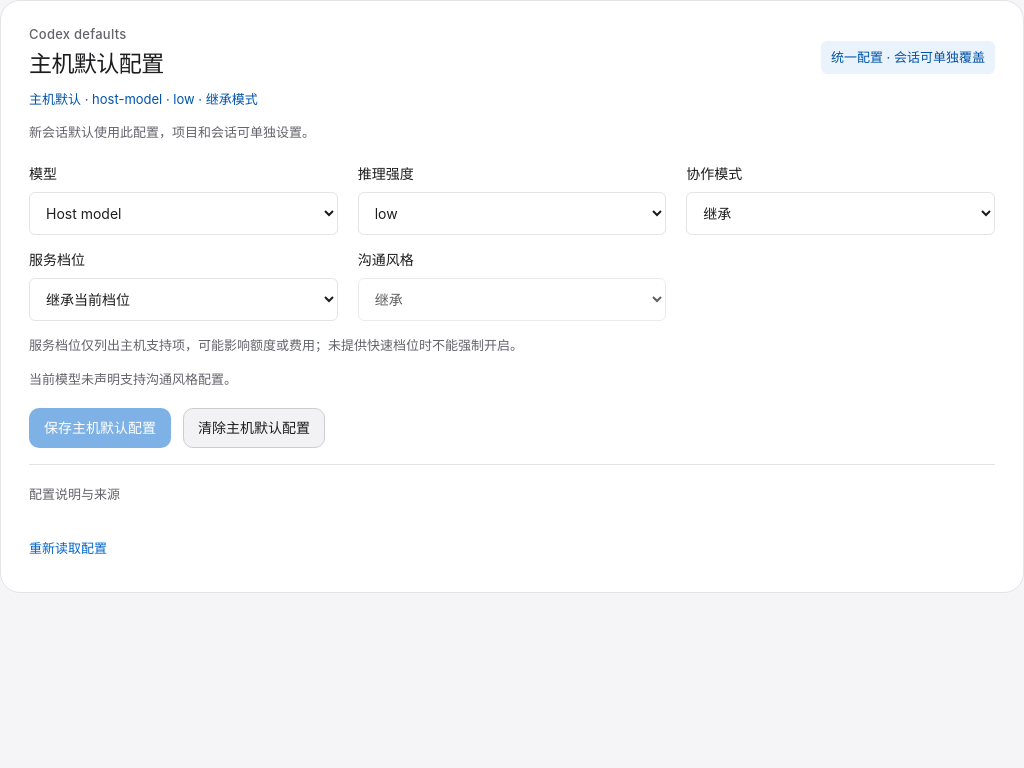
it: configures a host directly without requiring a session and isolates host switches
expect the dropdown named "主机默认模型" is shown: met, box left=29, top=192, right=338, bottom=235
expect the button "保存主机默认配置" is disabled: met, box left=29, top=408, right=171, bottom=448
Select "high" in the dropdown labelled "推理强度" at (512, 214), box left=358, top=192, right=666, bottom=235
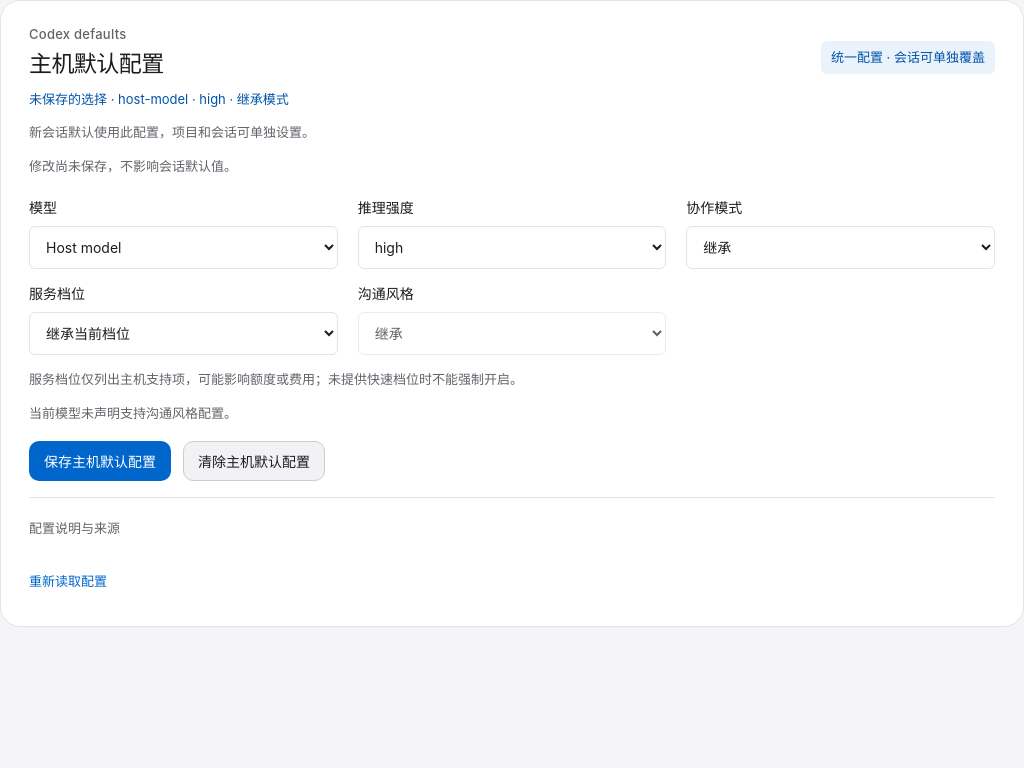
expect the button "保存主机默认配置" is enabled: met
Click the button "保存主机默认配置".
click(100, 461)  # box left=29, top=441, right=171, bottom=481
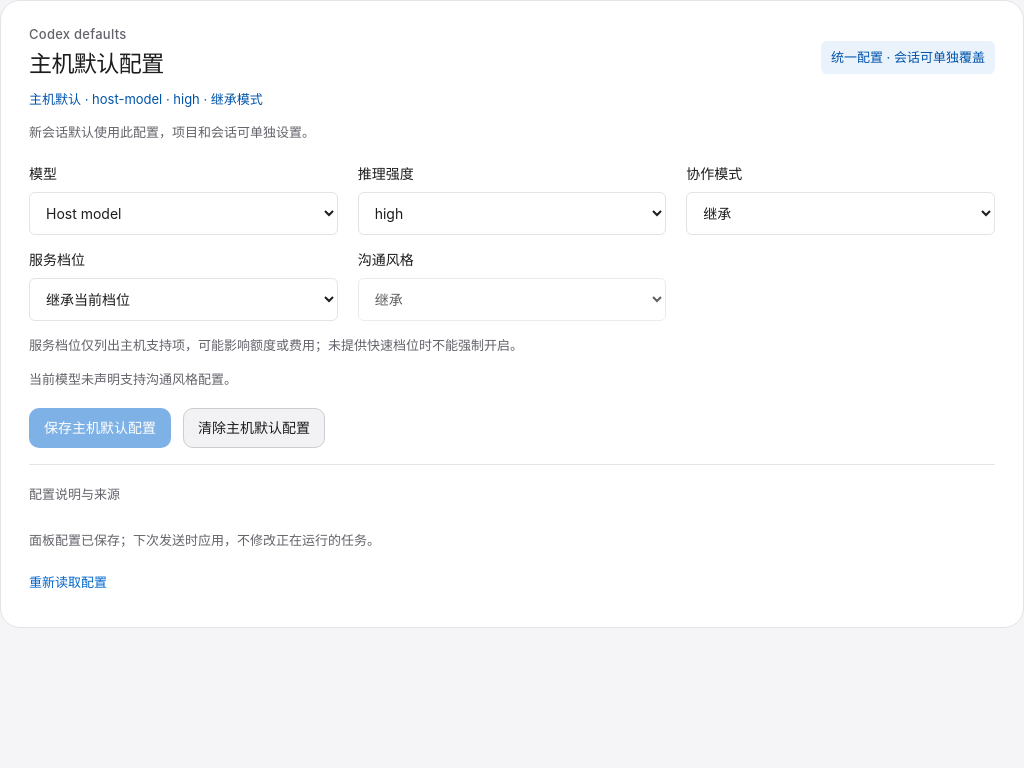
expect the button "保存主机默认配置" is disabled: met, box left=29, top=408, right=171, bottom=448
